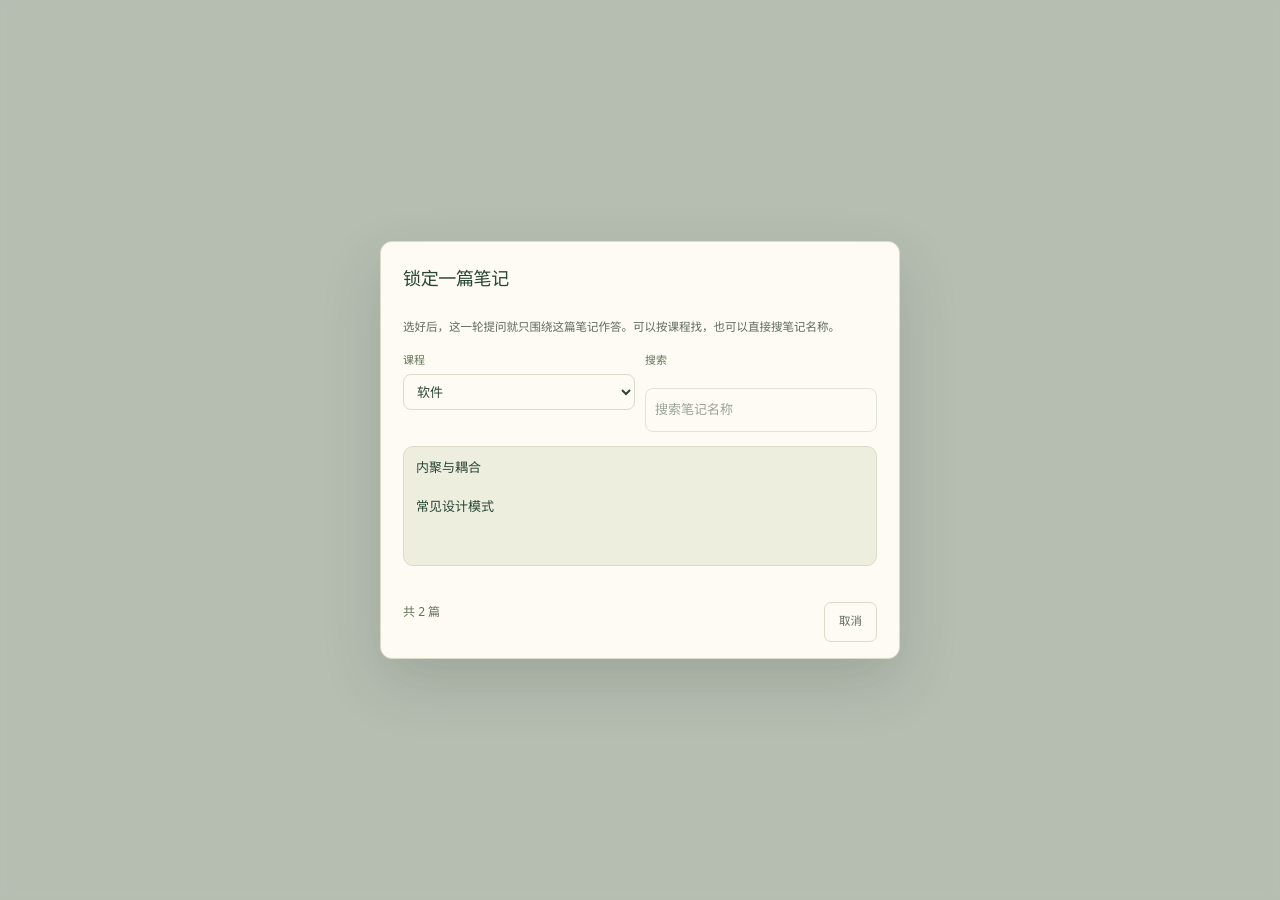
Test: 按名称搜索过滤笔记
Type "耦合" into the field named "搜索笔记名称" at (761, 410), box 645,388 -> 877,432
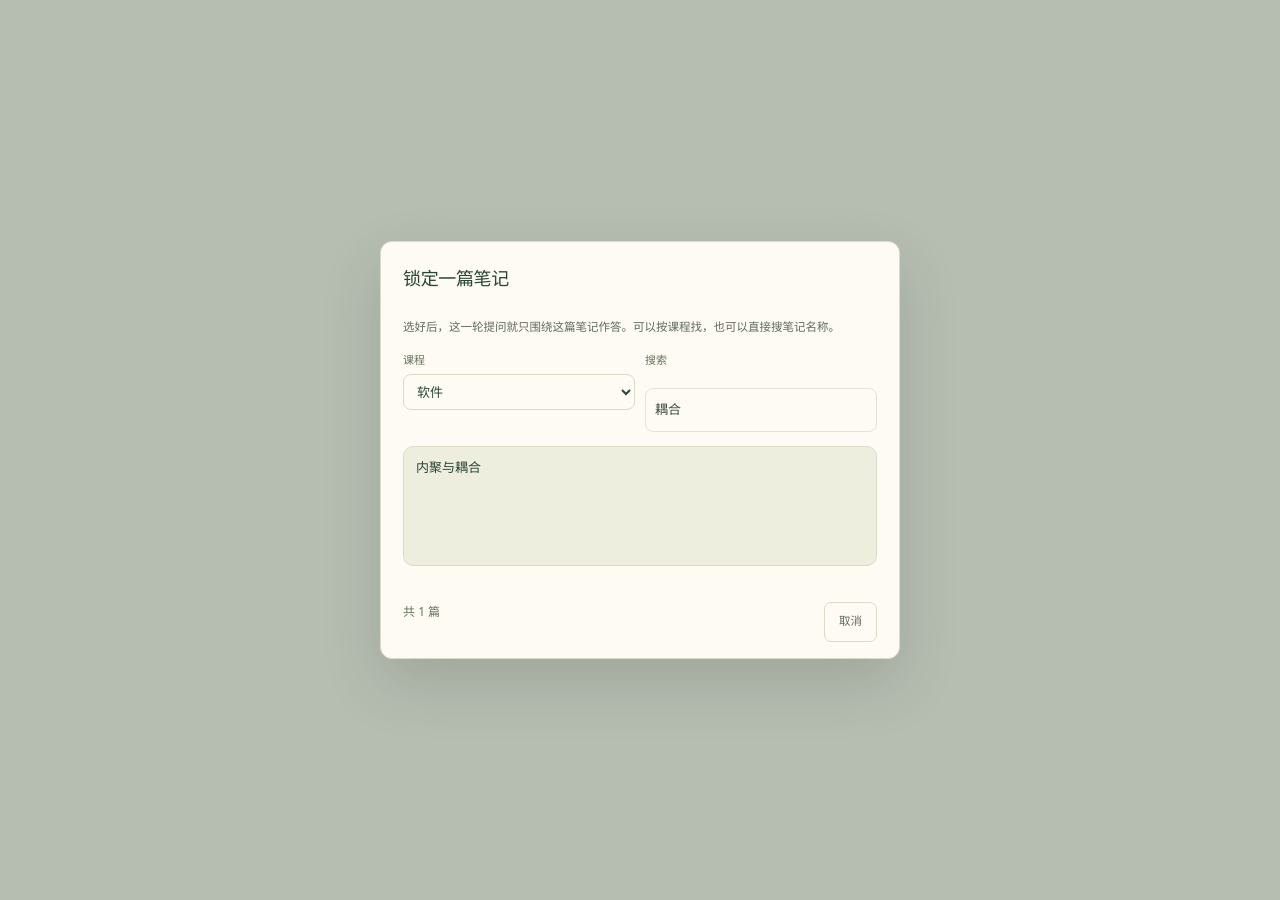
Expected: the text "内聚与耦合" is shown, 416,458 -> 481,476
Result: the button "常见设计模式" is gone
Replace the text in the field named "搜索笔记名称" with "不存在的词" at (761, 410), box 645,388 -> 877,432
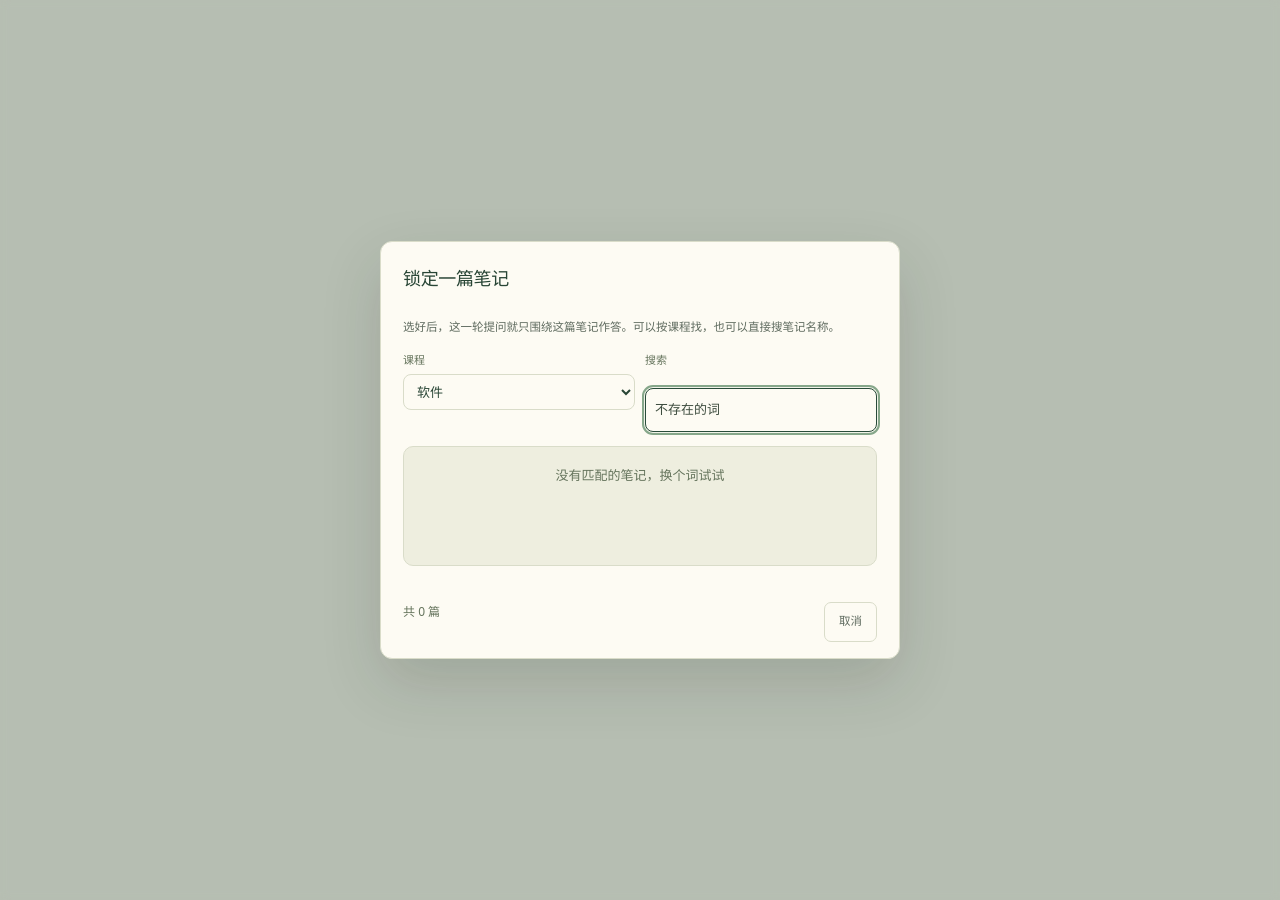
Result: the text "没有匹配的笔记，换个词试试" is shown at 556,466 -> 724,484
